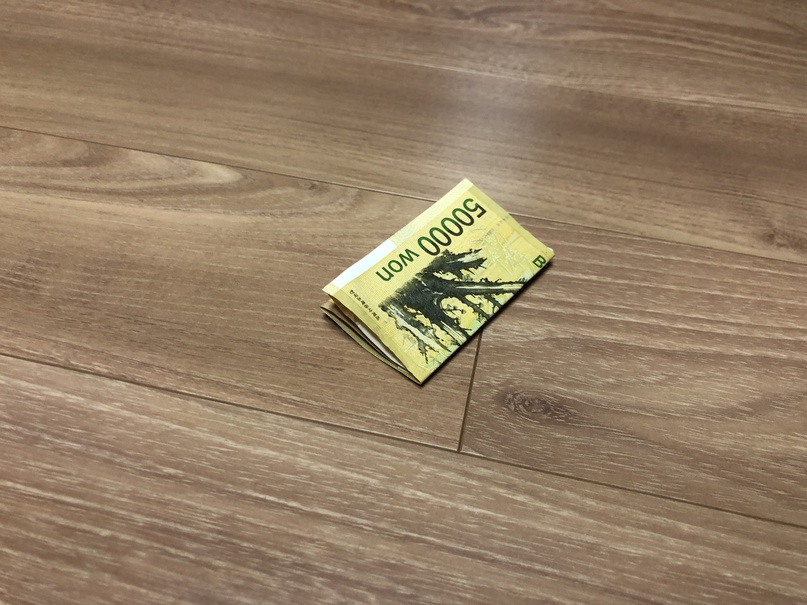50000won: (320, 178, 557, 388)
